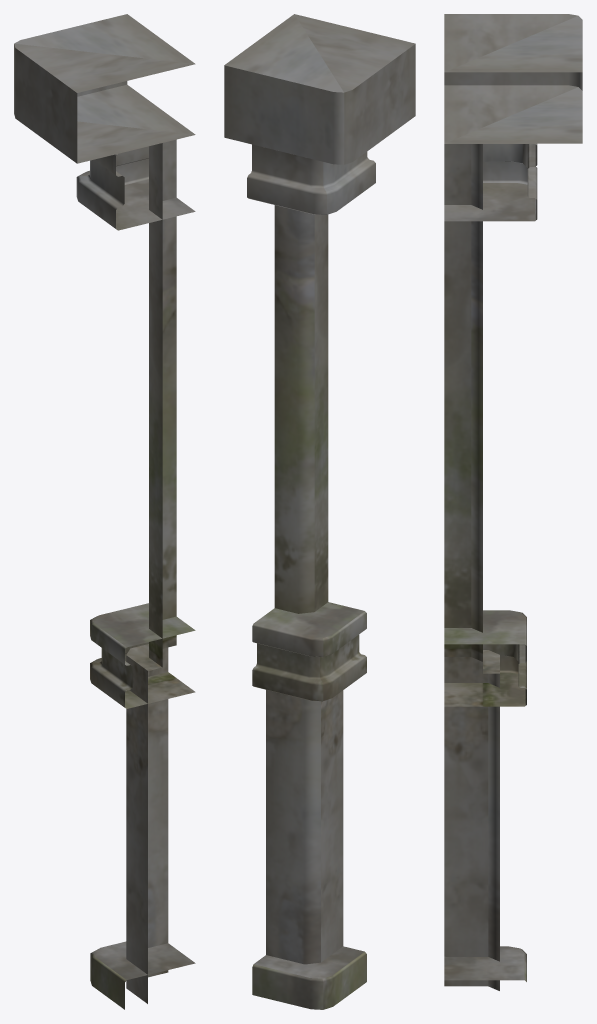
The model's file is Psychiatric_Ward_Guards_Room_Exterior_Wall_Corner.glb.
3 views of the same model, side by side, from view 1: azimuth 30°, elevation 25°; view 2: azimuth 150°, elevation 25°; view 3: azimuth 270°, elevation 25° (orthographic). The views are drawn at different scales.
Visible parts, largest first — view 1: Psychiatric_Ward_Guards_Room_Exterior_Wall_Corner; view 2: Psychiatric_Ward_Guards_Room_Exterior_Wall_Corner; view 3: Psychiatric_Ward_Guards_Room_Exterior_Wall_Corner.
Part boxes in pixels (x1=…): Psychiatric_Ward_Guards_Room_Exterior_Wall_Corner: x1=14, y1=14, x2=195, y2=1009; Psychiatric_Ward_Guards_Room_Exterior_Wall_Corner: x1=224, y1=14, x2=415, y2=1009; Psychiatric_Ward_Guards_Room_Exterior_Wall_Corner: x1=444, y1=14, x2=582, y2=990.
Size of the model in its own units: 0.3569 by 2.67 by 0.3569.
Materials: 2 (2 with a texture image).
